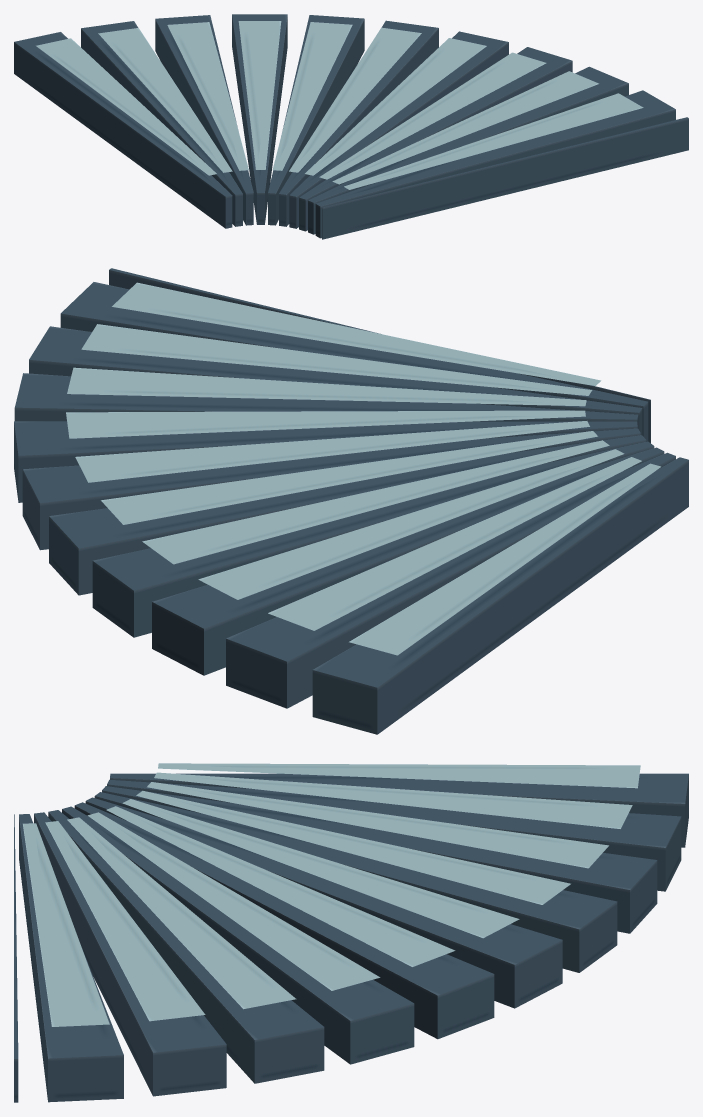
File: sc_tread_curve_left_23.obj
3 renders of one model, top to bottom at view 1: azimuth 30°, elevation 25°; view 2: azimuth 150°, elevation 25°; view 3: azimuth 270°, elevation 25°, orthographic. The views are drawn at different scales.
Size of the model in its own units: 17.5 by 1.56 by 17.5.
1 material, 1 textured.
